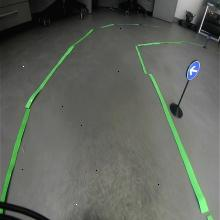left: (186, 59, 201, 81)
